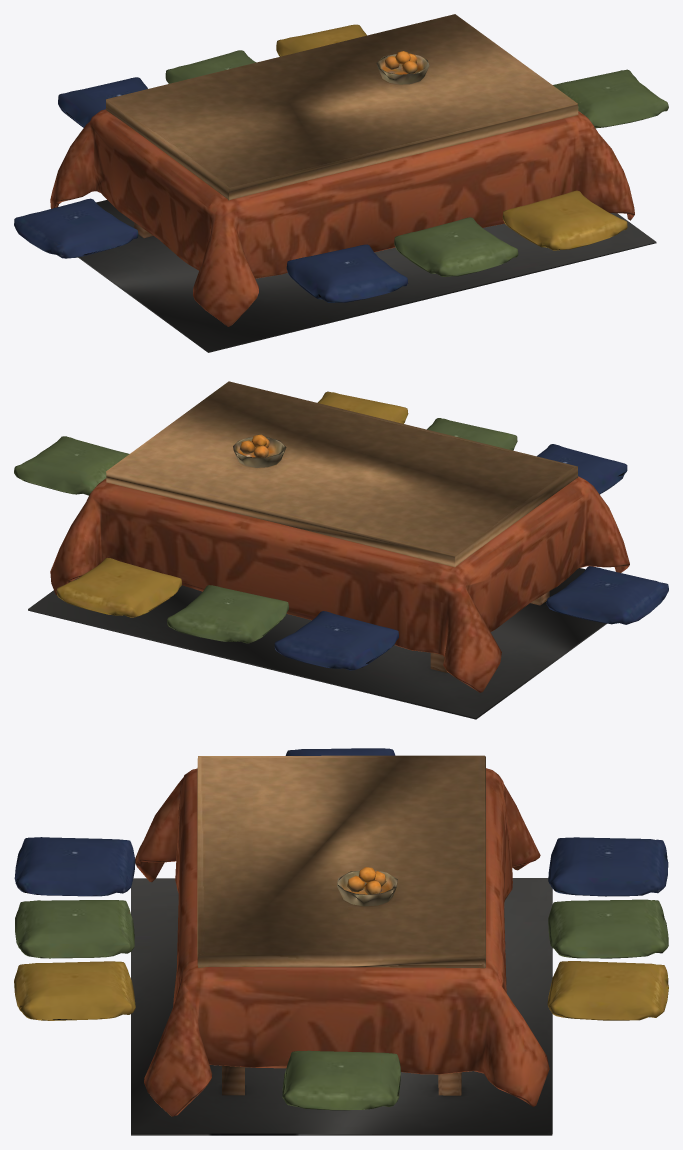
File: kotatsu_lodge_rust.glb
3 views of the same model, one above another, from view 1: azimuth 30°, elevation 25°; view 2: azimuth 150°, elevation 25°; view 3: azimuth 270°, elevation 25° (orthographic). The views are drawn at different scales.
Visible parts, largest first — view 1: prop_kotatsu_lodge_rust_felt.001, prop_kotatsu_lodge_rust_wood.001; view 2: prop_kotatsu_lodge_rust_felt.001, prop_kotatsu_lodge_rust_wood.001; view 3: prop_kotatsu_lodge_rust_felt.001, prop_kotatsu_lodge_rust_wood.001.
Part boxes in pixels (box(x1,y1,x2,y2)): prop_kotatsu_lodge_rust_felt.001: box(14, 24, 668, 352); prop_kotatsu_lodge_rust_wood.001: box(106, 14, 578, 238); prop_kotatsu_lodge_rust_felt.001: box(14, 391, 668, 719); prop_kotatsu_lodge_rust_wood.001: box(106, 381, 577, 672); prop_kotatsu_lodge_rust_felt.001: box(14, 748, 668, 1135); prop_kotatsu_lodge_rust_wood.001: box(197, 755, 485, 1095).
Bounding box in the file's own units: 4.15 × 0.9901 × 3.24.
Materials: 3 (3 with a texture image).
